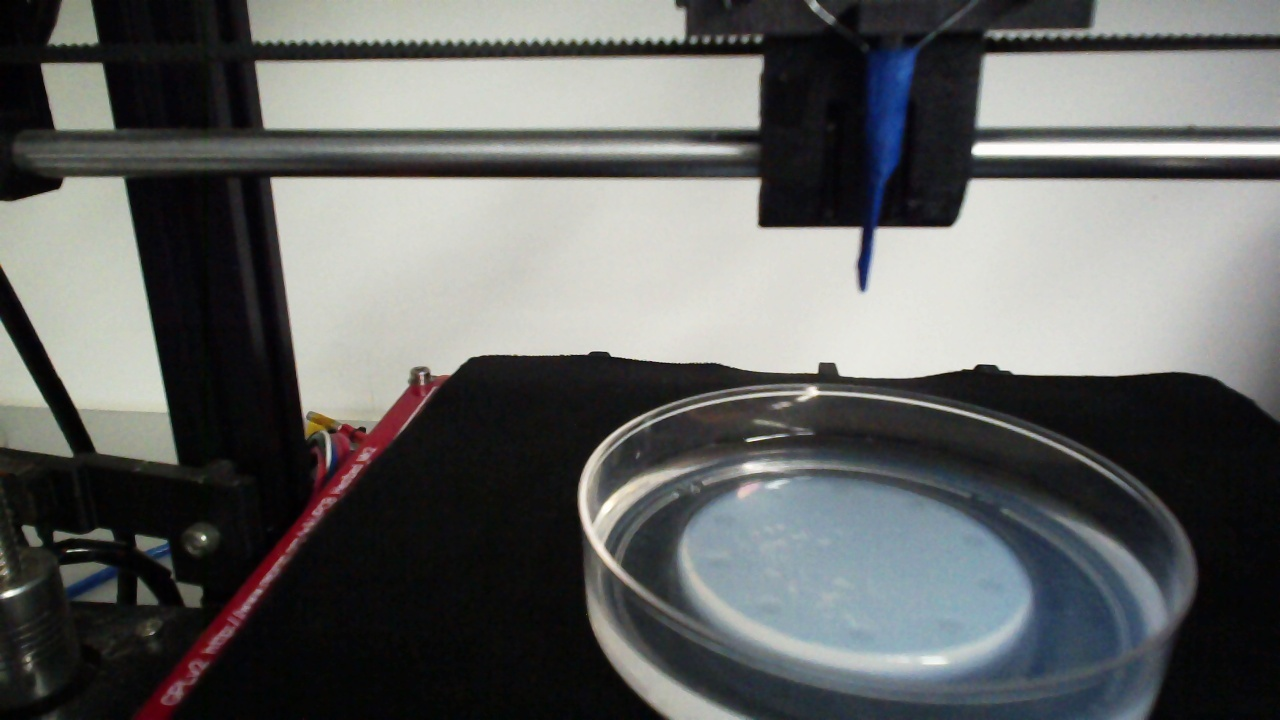groove: (839, 618, 880, 650), (752, 593, 786, 620), (700, 550, 736, 575), (933, 611, 964, 637), (974, 573, 1008, 595), (710, 508, 740, 530), (826, 476, 855, 498), (959, 530, 987, 552), (902, 495, 929, 516)
needle: (857, 57, 914, 289)
